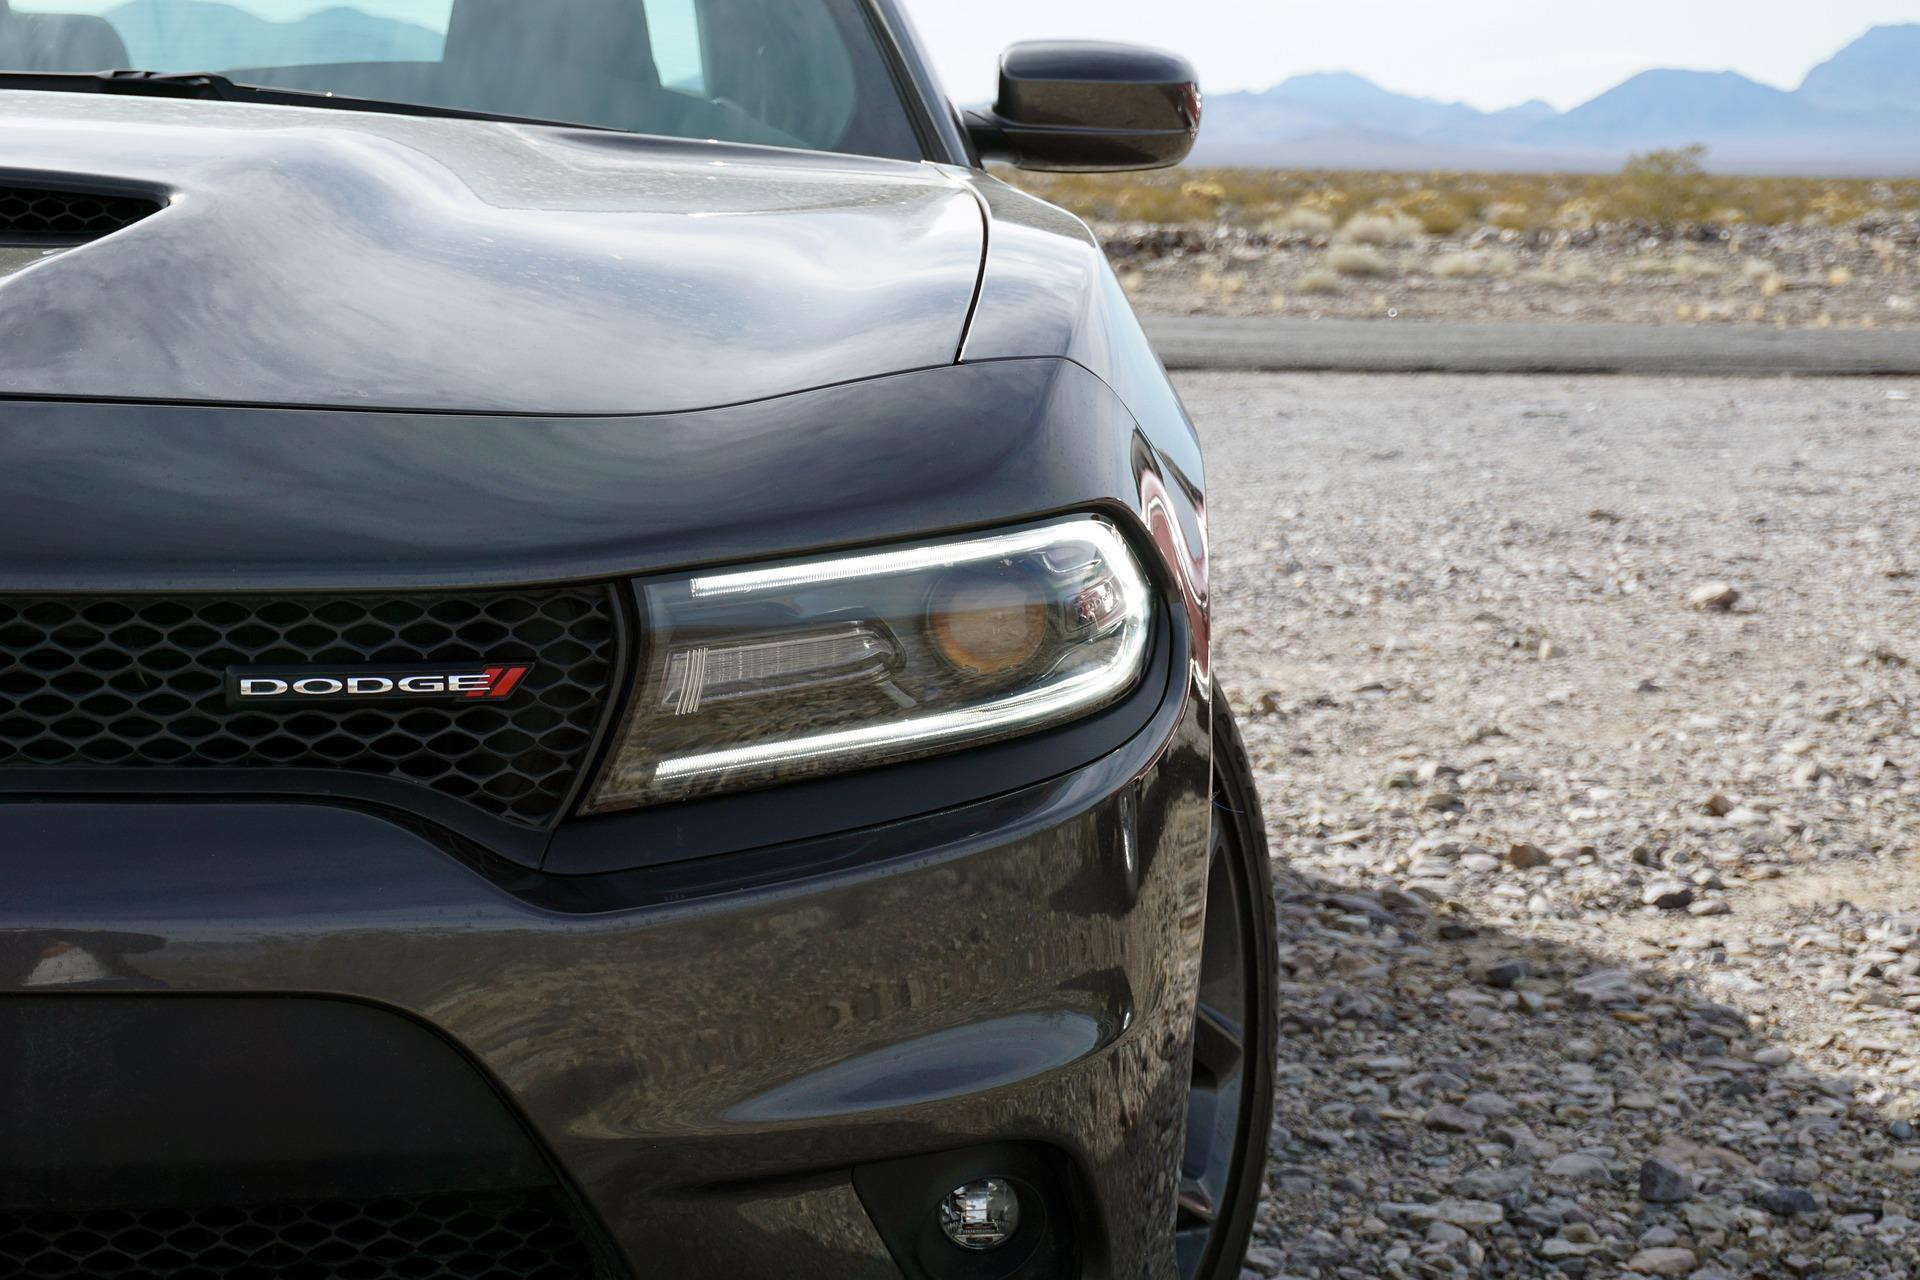dodge: (206, 630, 573, 743)
